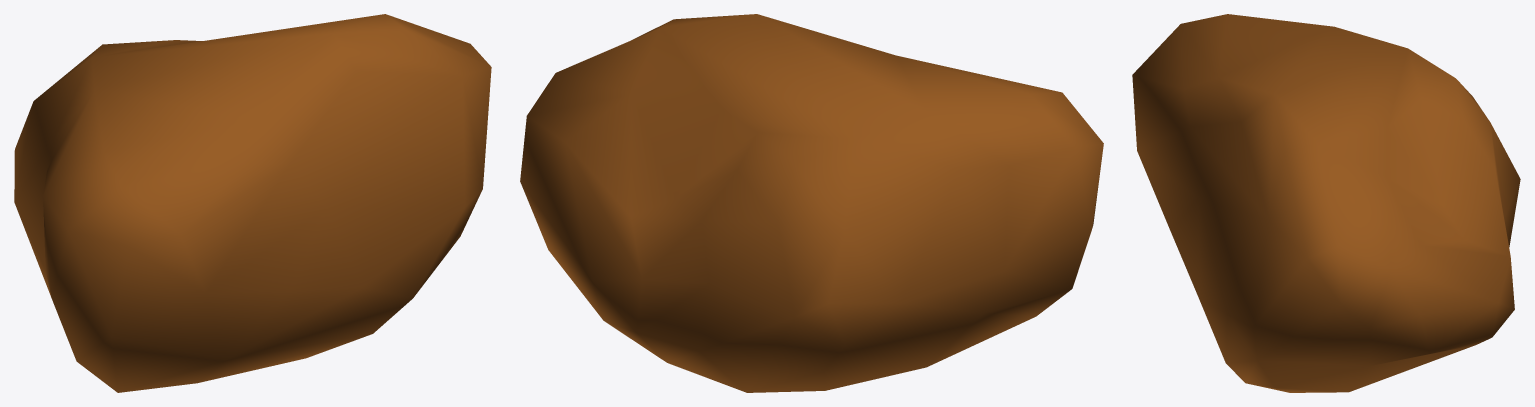
File: SoftRock_24.fbx
3 views of the same model, side by side, from view 1: azimuth 30°, elevation 25°; view 2: azimuth 150°, elevation 25°; view 3: azimuth 270°, elevation 25° (orthographic). The views are drawn at different scales.
Visible parts, largest first — view 1: SoftRock_24; view 2: SoftRock_24; view 3: SoftRock_24.
Boxes of the visible parts, left/top/right/bottom form: SoftRock_24: left=14, top=14, right=491, bottom=392; SoftRock_24: left=520, top=14, right=1103, bottom=392; SoftRock_24: left=1132, top=14, right=1520, bottom=392.
Bounding box in the file's own units: 102 × 64.07 × 72.37.
